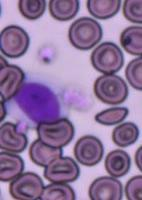L: (8, 72, 79, 127)
